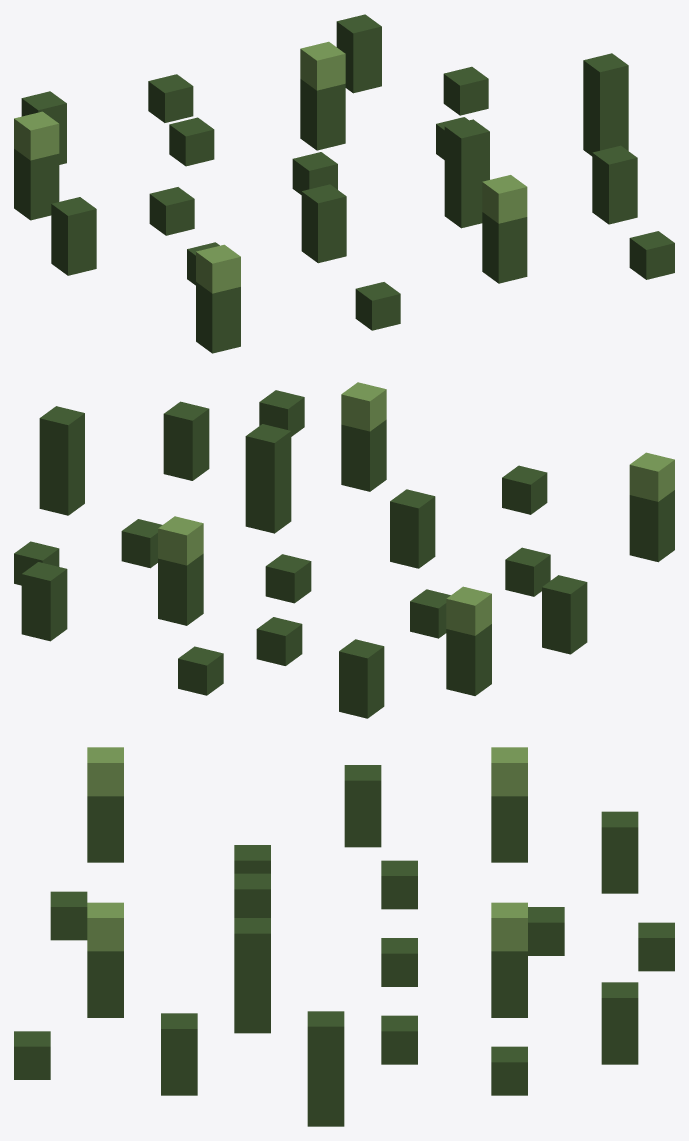
File: ambient_grass_2.fbx
3 views of the same model, one above another, from view 1: azimuth 30°, elevation 25°; view 2: azimuth 150°, elevation 25°; view 3: azimuth 270°, elevation 25° (orthographic). The views are drawn at different scales.
Parts seen in each view (by area): view 1: Cube.007; view 2: Cube.007; view 3: Cube.007.
Boxes of the visible parts, <box> form: Cube.007: <box>14,14,674,353</box>; Cube.007: <box>14,382,674,718</box>; Cube.007: <box>14,747,674,1126</box>.
Bounding box in the file's own units: 190 × 30 × 180.
